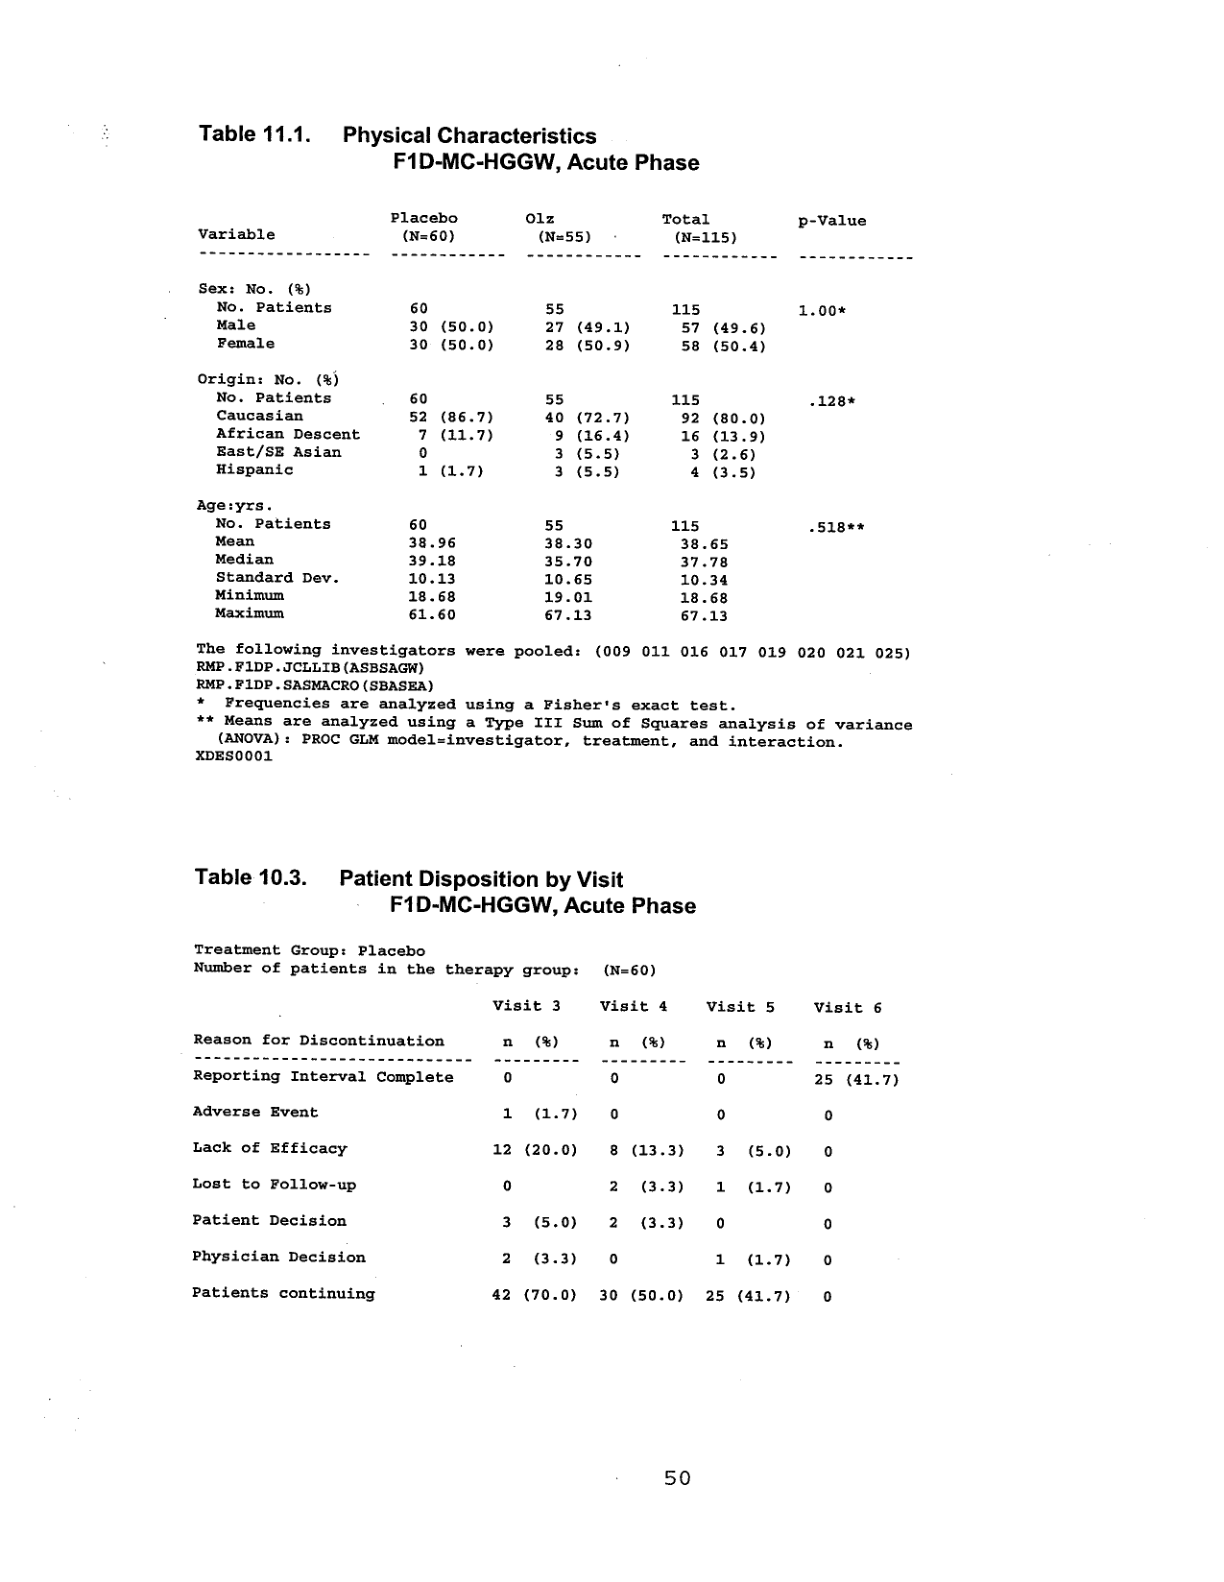nolines: (195, 208, 911, 621), (191, 995, 902, 1308)
